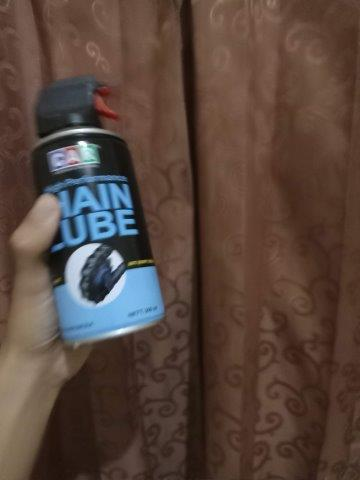kaleng: (31, 127, 164, 347)
